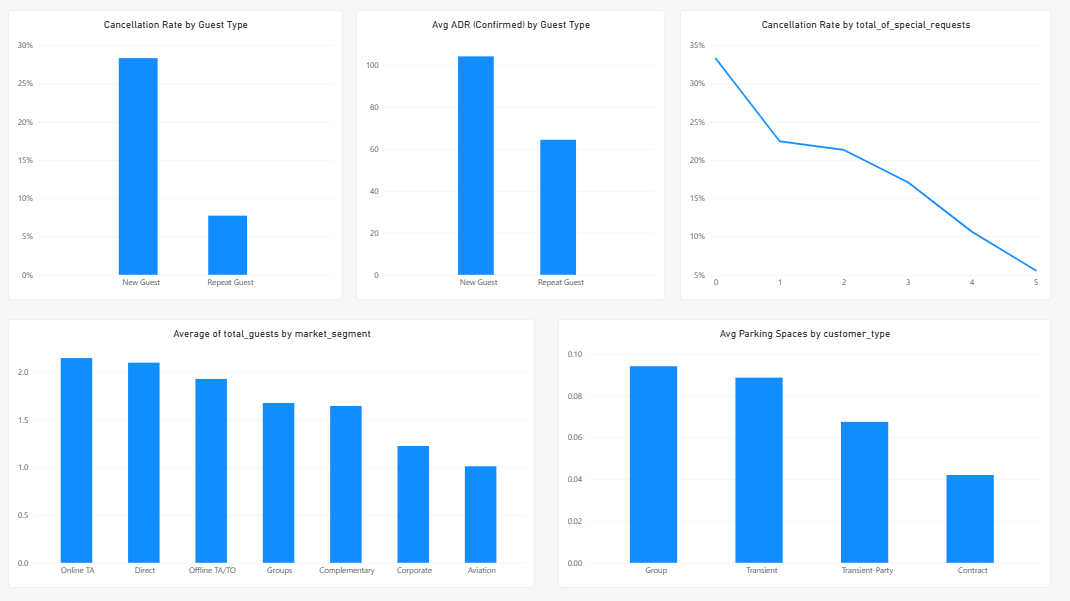

The page's visual inventory and layout, read from the dashboard file:
{"tool":"powerbi","page":{"name":"Guest Behavior & Loyalty","canvas":[1920,1080],"ordinal":3},"visuals":[{"type":"clusteredColumnChart","fields":{"Category":["Fact_bookings.Guest Type"],"Y":["Measures (2).Cancellation Rate"]},"box":[19.6,21.4,598.2,517.9],"z":0},{"type":"clusteredColumnChart","fields":{"Category":["Fact_bookings.Guest Type"],"Y":["Measures (2).Avg ADR (Confirmed)"]},"box":[641.1,21.4,551.8,517.9],"z":1},{"type":"lineChart","fields":{"Category":["Fact_bookings.total_of_special_requests"],"Y":["Measures (2).Cancellation Rate"]},"box":[1219.6,21.4,662.5,517.9],"z":2},{"type":"clusteredColumnChart","fields":{"Category":["dim_market_segments.market_segment"],"Y":["Avg(Fact_bookings.total_guests)"]},"box":[19.6,573.2,941.1,480.4],"z":3},{"type":"clusteredColumnChart","fields":{"Category":["dim_customer_type.customer_type"],"Y":["Measures (2).Avg Parking Spaces"]},"box":[1001.8,573.2,880.4,480.4],"z":4}]}

Visuals, with their boxes in screenshot pixels (x1, y1, x2, y2), scaled from the page's 1920x1080 canvas onto the 1070x601 screenshot:
clusteredColumnChart - Fact_bookings.Guest Type x Measures (2).Cancellation Rate: 11:12:344:300
clusteredColumnChart - Fact_bookings.Guest Type x Measures (2).Avg ADR (Confirmed): 357:12:665:300
lineChart - Fact_bookings.total_of_special_requests x Measures (2).Cancellation Rate: 680:12:1049:300
clusteredColumnChart - dim_market_segments.market_segment x Avg(Fact_bookings.total_guests): 11:319:535:586
clusteredColumnChart - dim_customer_type.customer_type x Measures (2).Avg Parking Spaces: 558:319:1049:586
